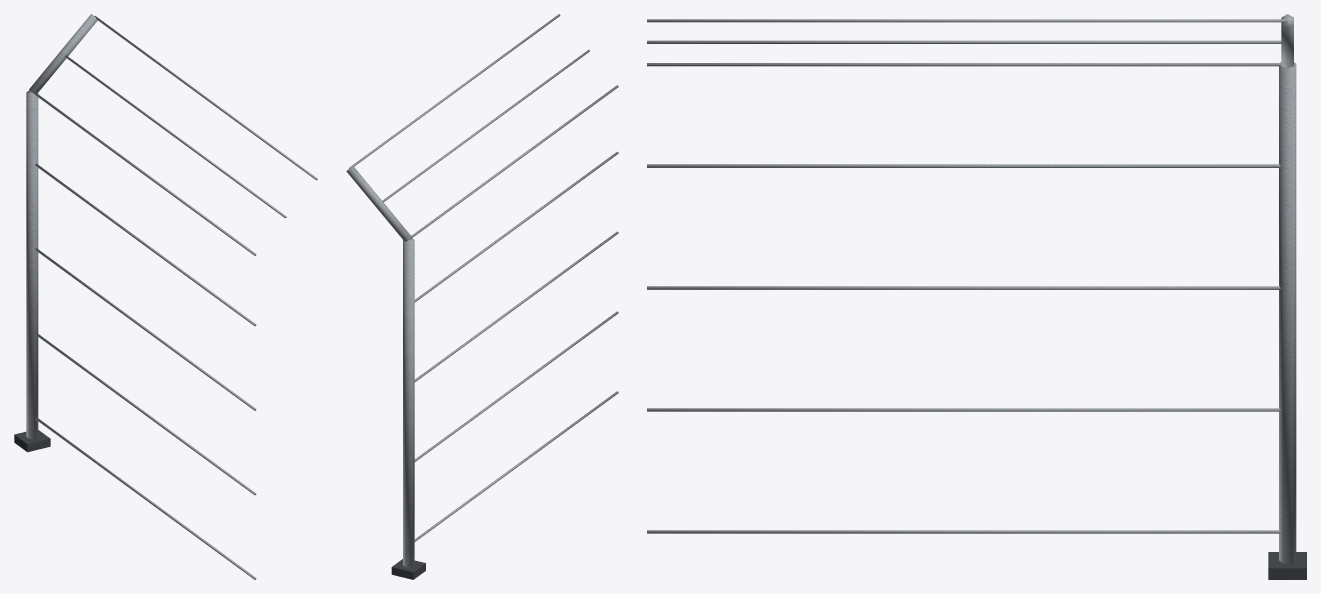
File: catch-fence_far.glb
The picture shows the model from 3 angles, left to right: view 1: azimuth 30°, elevation 25°; view 2: azimuth 150°, elevation 25°; view 3: azimuth 270°, elevation 25°; orthographic projection. The views are drawn at different scales.
Visible parts, largest first — view 1: galvanised, dark-steel; view 2: galvanised, dark-steel; view 3: galvanised, dark-steel.
Boxes of the visible parts, x1,y1,x2,y2 form: galvanised: (26, 14, 317, 579); dark-steel: (14, 430, 50, 452); galvanised: (346, 14, 618, 567); dark-steel: (391, 559, 425, 579); galvanised: (647, 14, 1296, 563); dark-steel: (1268, 552, 1306, 579).
Size of the model in its own units: 0.8004 by 4.13 by 4.12.
Materials: 2 (2 with a texture image).
